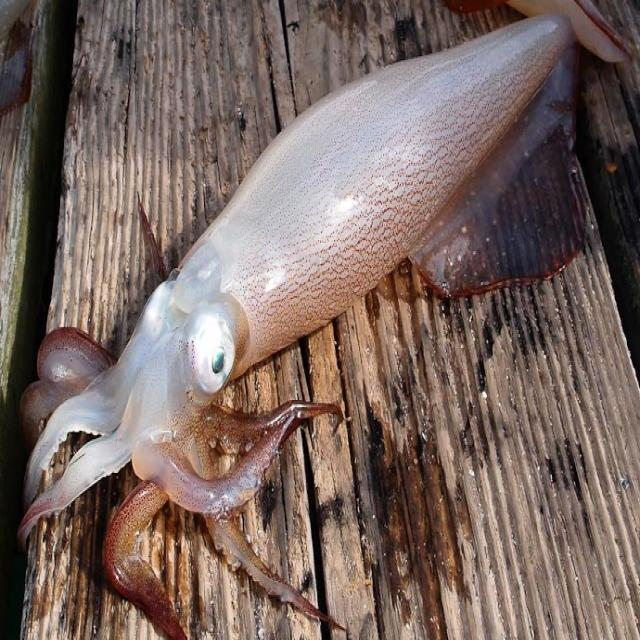SQUID: (31, 13, 589, 548)
